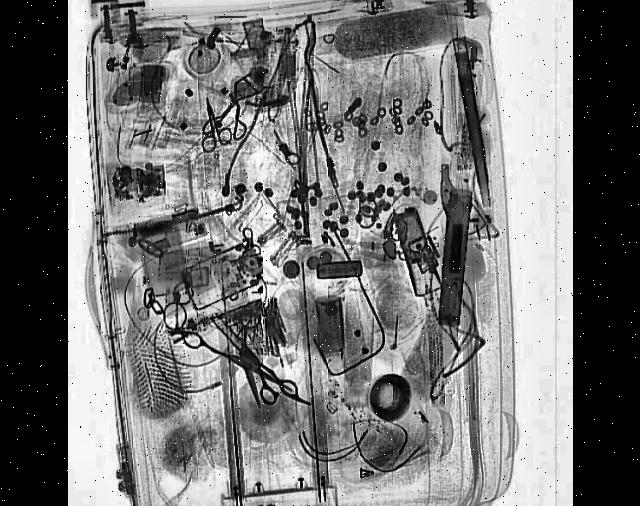Scissors: (205, 303, 302, 425), (193, 93, 233, 157)
